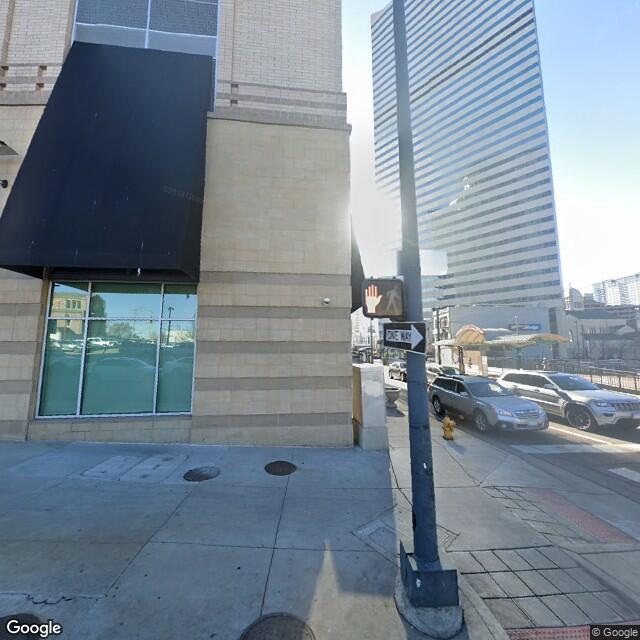fh: (433, 413, 460, 444)
